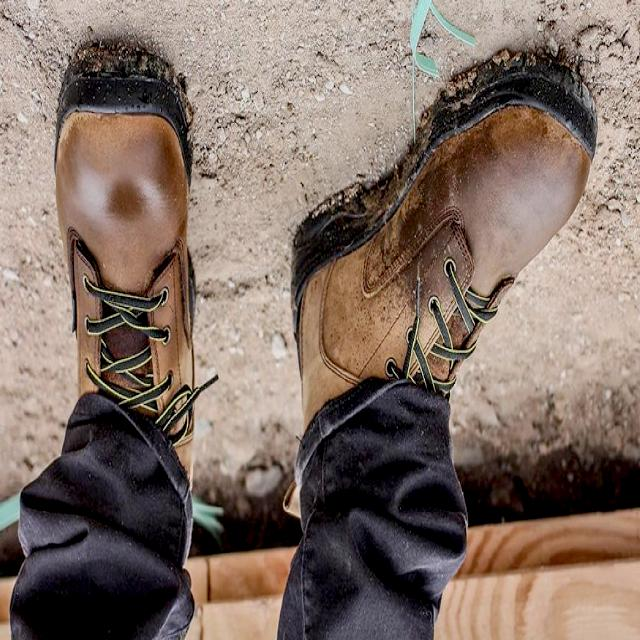Boots: (288, 51, 600, 449), (48, 60, 205, 510)
